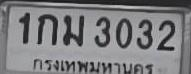0: (115, 17, 131, 48)
1: (18, 11, 29, 44)
2: (156, 19, 174, 50)
3: (93, 16, 110, 47), (136, 18, 152, 49)
A01: (36, 13, 57, 44)
A33: (62, 13, 83, 46)
BKK: (30, 55, 157, 74)
